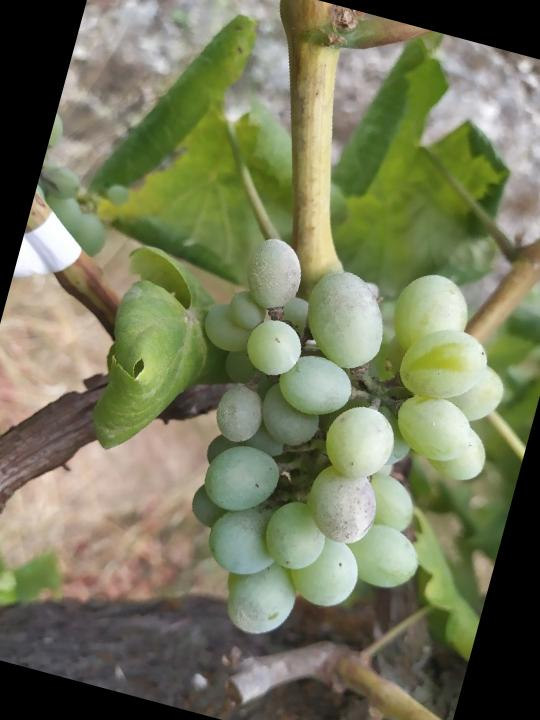grape: (127, 219, 536, 682)
